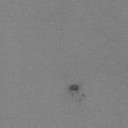iron sheet ash: (68, 84, 80, 94)
